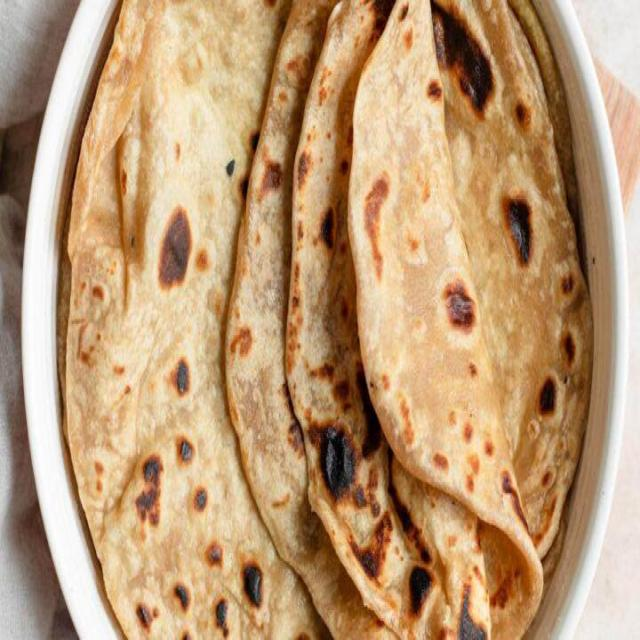roti: (56, 0, 595, 640)
